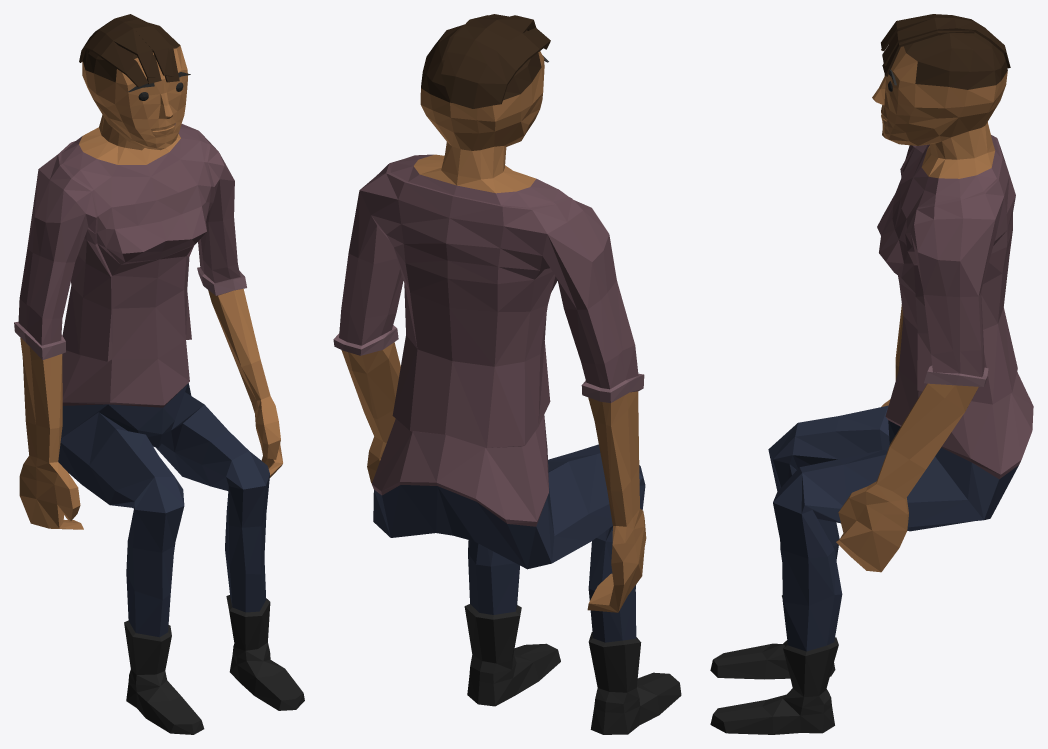
File: cg_woman_1.glb
3 renders of one model, left to right at view 1: azimuth 30°, elevation 25°; view 2: azimuth 150°, elevation 25°; view 3: azimuth 270°, elevation 25°, orthographic. The views are drawn at different scales.
Bounding box in the file's own units: 1.49 × 3.82 × 1.65.
